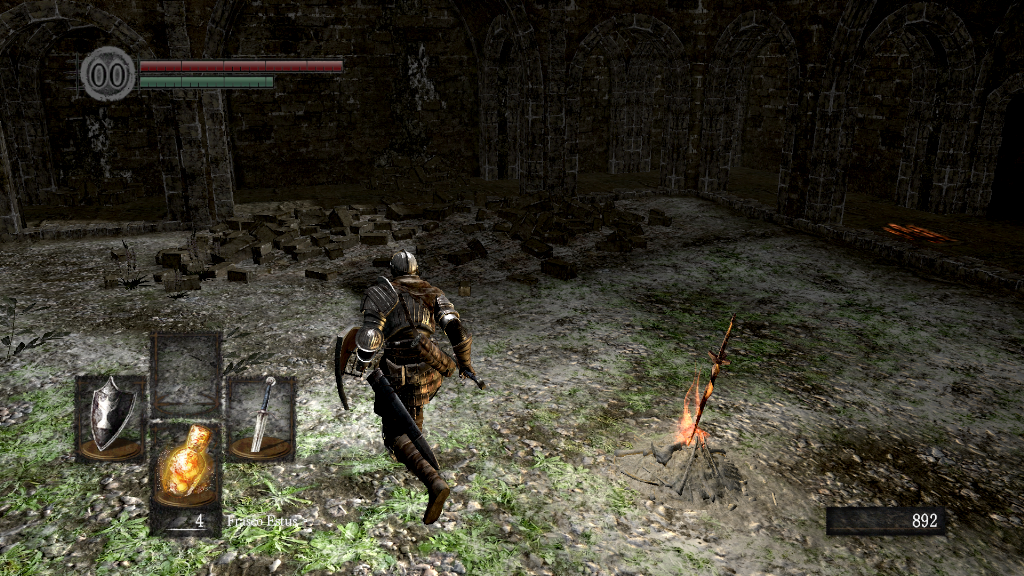bonfire: (617, 312, 747, 508)
health: (138, 58, 343, 71)
humanity: (80, 45, 136, 102)
player: (328, 249, 495, 529)
souls: (825, 506, 945, 536)
stamina: (138, 74, 274, 88)
